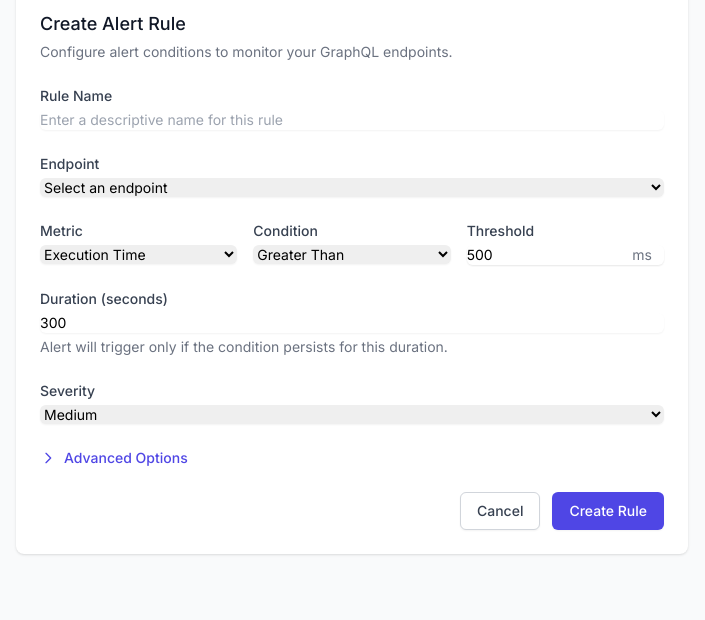
Test: AlertRuleForm › Form Validation › should validate threshold value
Type "Test Rule" into the field with test id "rule-name-input" at (352, 120), box [40,110,664,130]
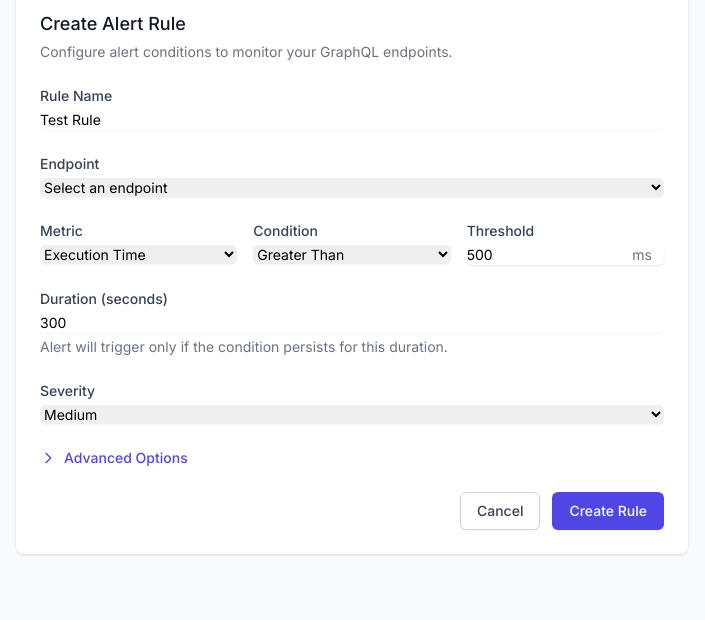
Select "Endpoint 1" in the dropdown with test id "endpoint-select" at (352, 188), box [40,178,664,197]
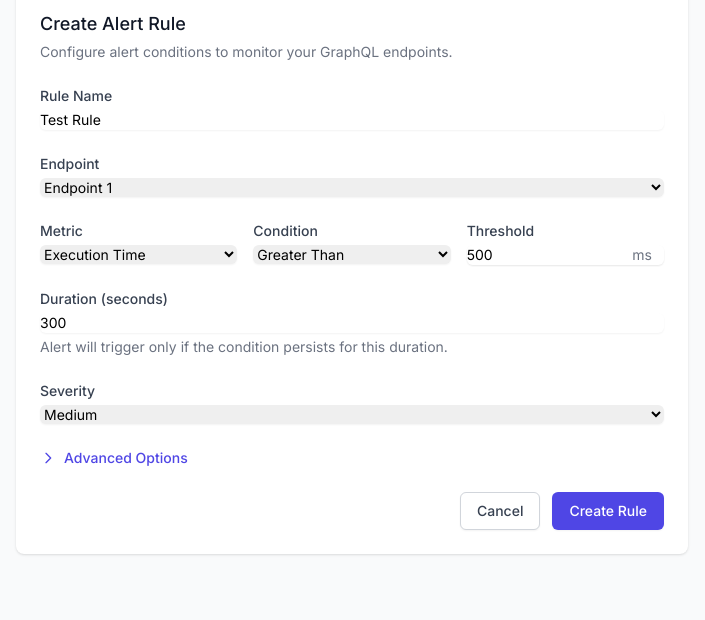
Replace the text in the number field with test id "threshold-input" with "-100" at (565, 255), box [467,245,664,265]
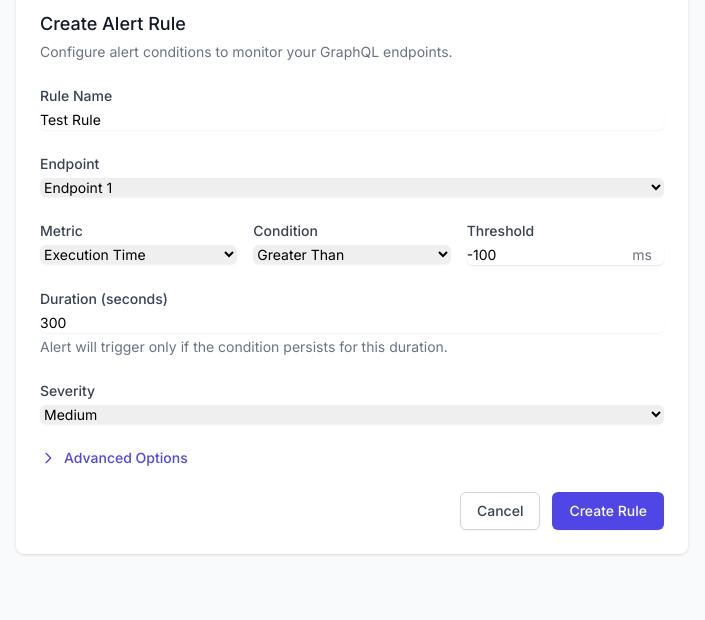
Note: Submit the form directly
Submit the form
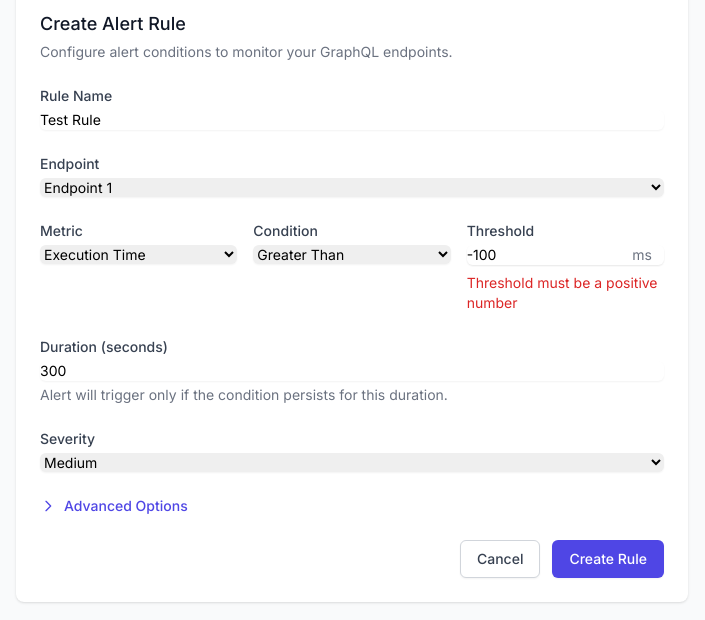
expect the text "Threshold must be a positive number" is shown: met, box [467,273,664,313]
